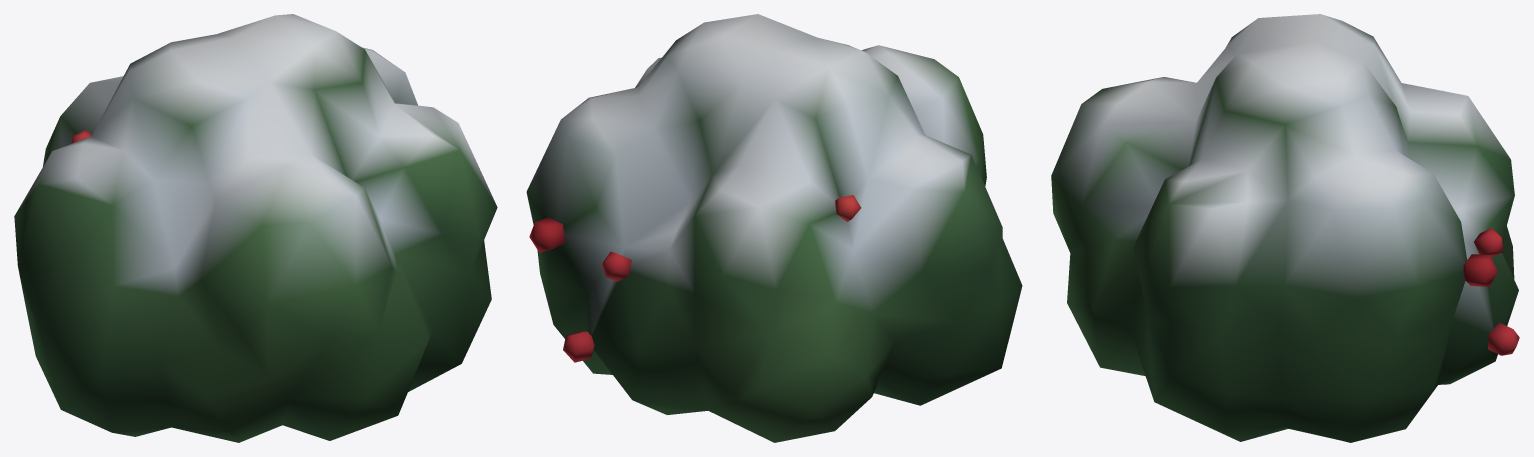
File: bush-a-winter.lod1.glb
The picture shows the model from 3 angles, left to right: view 1: azimuth 30°, elevation 25°; view 2: azimuth 150°, elevation 25°; view 3: azimuth 270°, elevation 25°; orthographic projection. The views are drawn at different scales.
Visible parts, largest first — view 1: bush-a-winter.lod1; view 2: bush-a-winter.lod1; view 3: bush-a-winter.lod1.
Part boxes in pixels (x1=…): bush-a-winter.lod1: x1=14, y1=14, x2=497, y2=442; bush-a-winter.lod1: x1=526, y1=14, x2=1022, y2=442; bush-a-winter.lod1: x1=1051, y1=14, x2=1519, y2=442.
Bounding box in the file's own units: 1.01 × 0.8182 × 0.9763.
